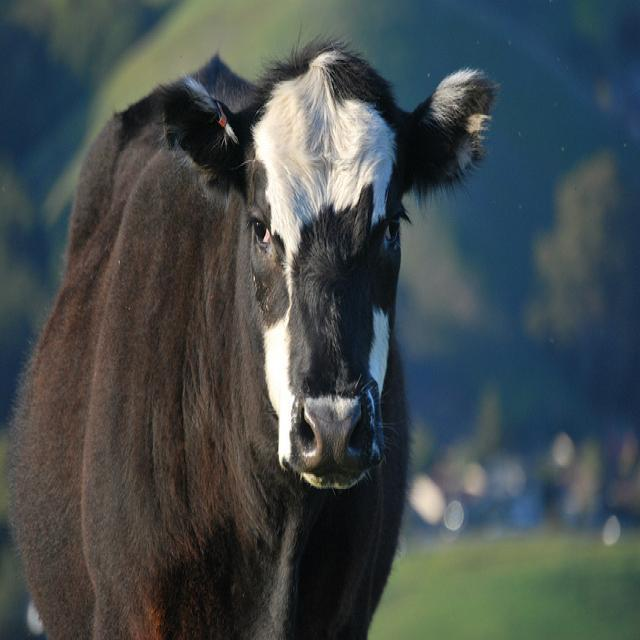cow: (11, 20, 504, 639)
